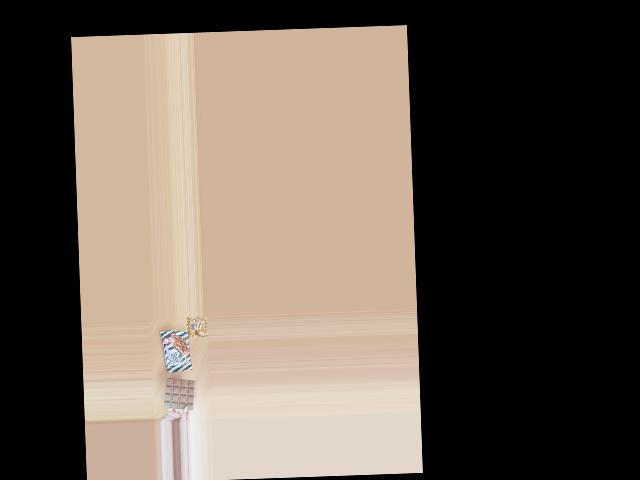chocolate: (160, 327, 191, 374)
